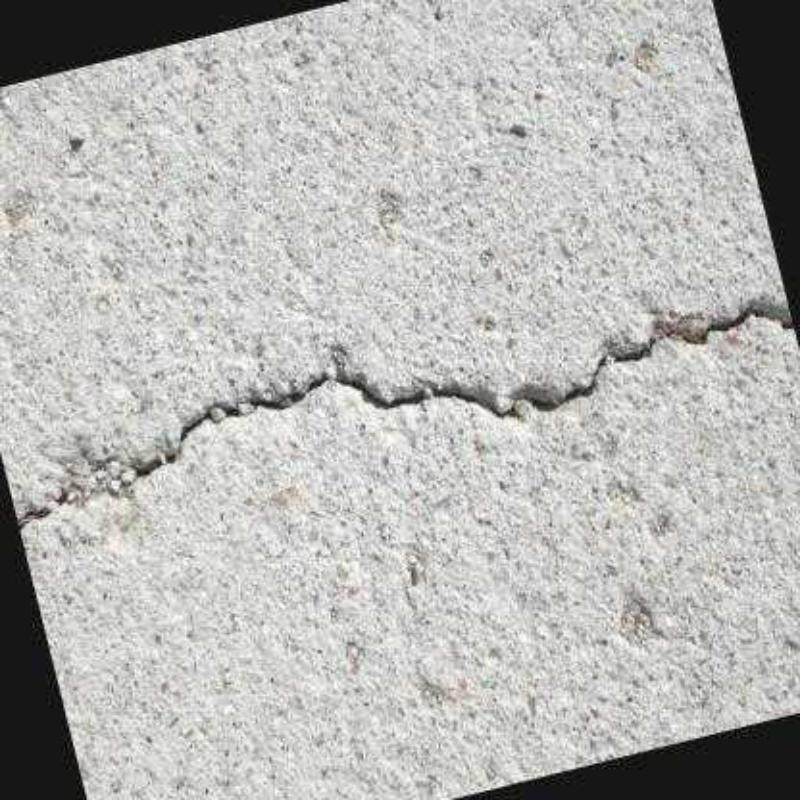pothole: (15, 297, 794, 536)
